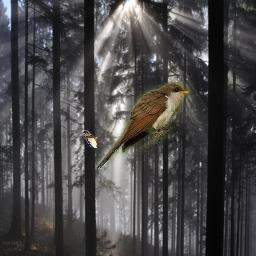Cuckoo: (95, 83, 189, 170)
Swallow: (83, 130, 98, 148)
